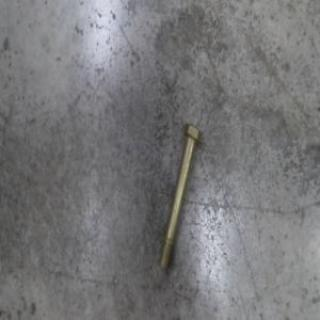Bolttrack_idkeyframe: (157, 120, 201, 271)
